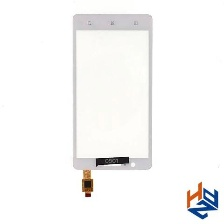phone: (70, 11, 159, 174)
